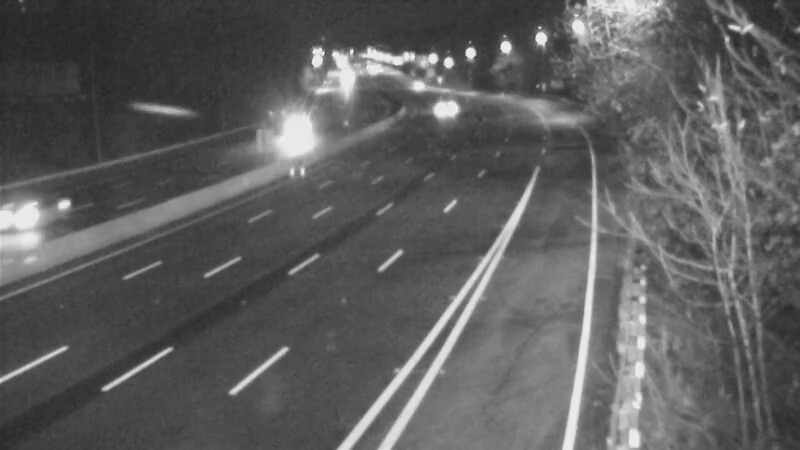vehicle: (1, 176, 69, 256), (392, 58, 442, 108), (423, 79, 473, 129), (272, 109, 322, 159)
